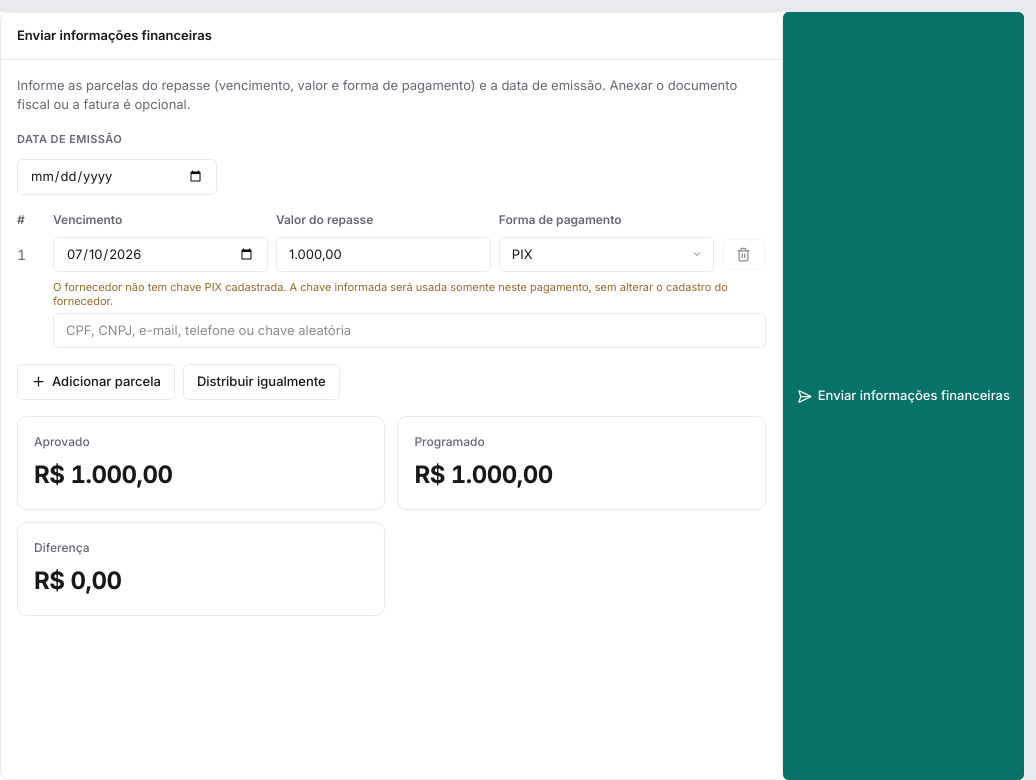
FinancialComplementForm › blocks submit without an emission date and surfaces the field error
Click the button "Enviar informações financeiras" at x=903, y=396, box [783, 12, 1024, 779]
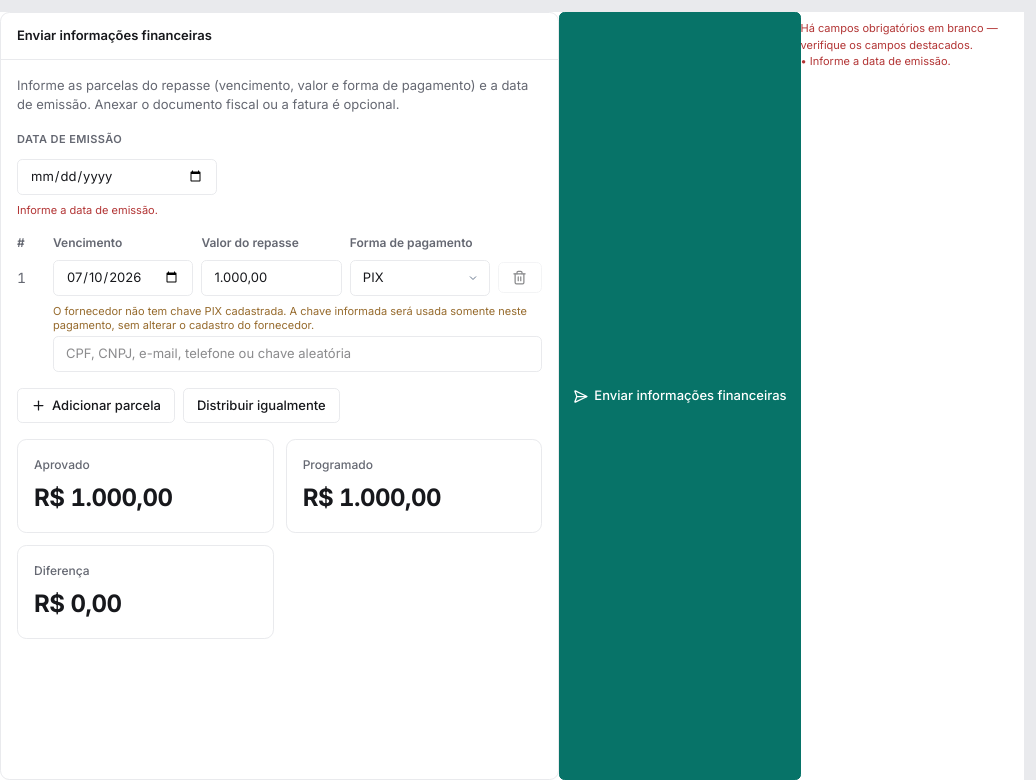
Now the text "Informe a data de emissão." is shown, box [17, 202, 158, 216]
